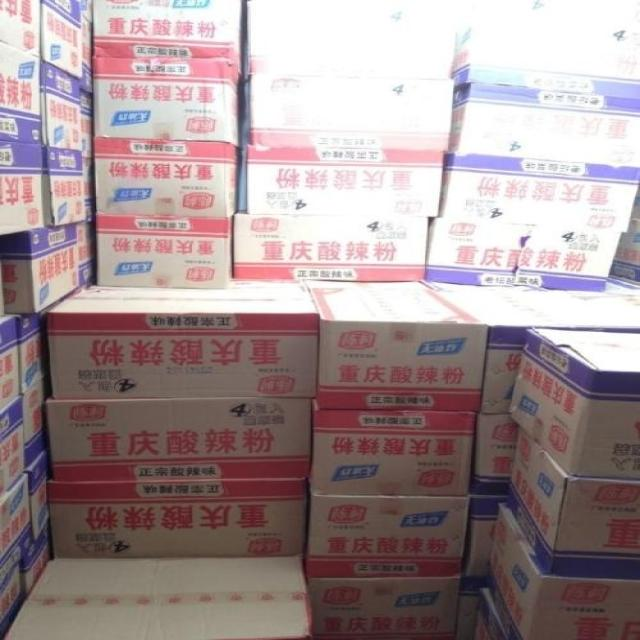box: (44, 276, 317, 397), (427, 272, 639, 413), (5, 554, 310, 638), (303, 279, 490, 412), (46, 395, 313, 480), (51, 475, 309, 555), (506, 423, 639, 578), (489, 503, 639, 637), (510, 326, 638, 479), (250, 56, 454, 151), (450, 68, 639, 169), (441, 153, 639, 233), (427, 215, 622, 292), (310, 406, 476, 494), (243, 145, 444, 215), (305, 493, 472, 576), (232, 211, 429, 279), (95, 57, 241, 147), (246, 0, 458, 58), (95, 138, 244, 217), (92, 216, 233, 286), (308, 574, 463, 637), (0, 215, 96, 314), (91, 0, 242, 57), (38, 59, 95, 154), (0, 41, 46, 146), (0, 139, 49, 234), (464, 492, 508, 590), (45, 144, 96, 226), (470, 411, 518, 493), (37, 0, 83, 81), (2, 473, 33, 582), (610, 173, 639, 283), (455, 585, 505, 637), (0, 398, 23, 500), (21, 381, 46, 474), (19, 314, 46, 400), (23, 521, 54, 595), (0, 0, 40, 55), (0, 310, 21, 413), (27, 454, 50, 547), (2, 557, 27, 639), (82, 0, 95, 94)
